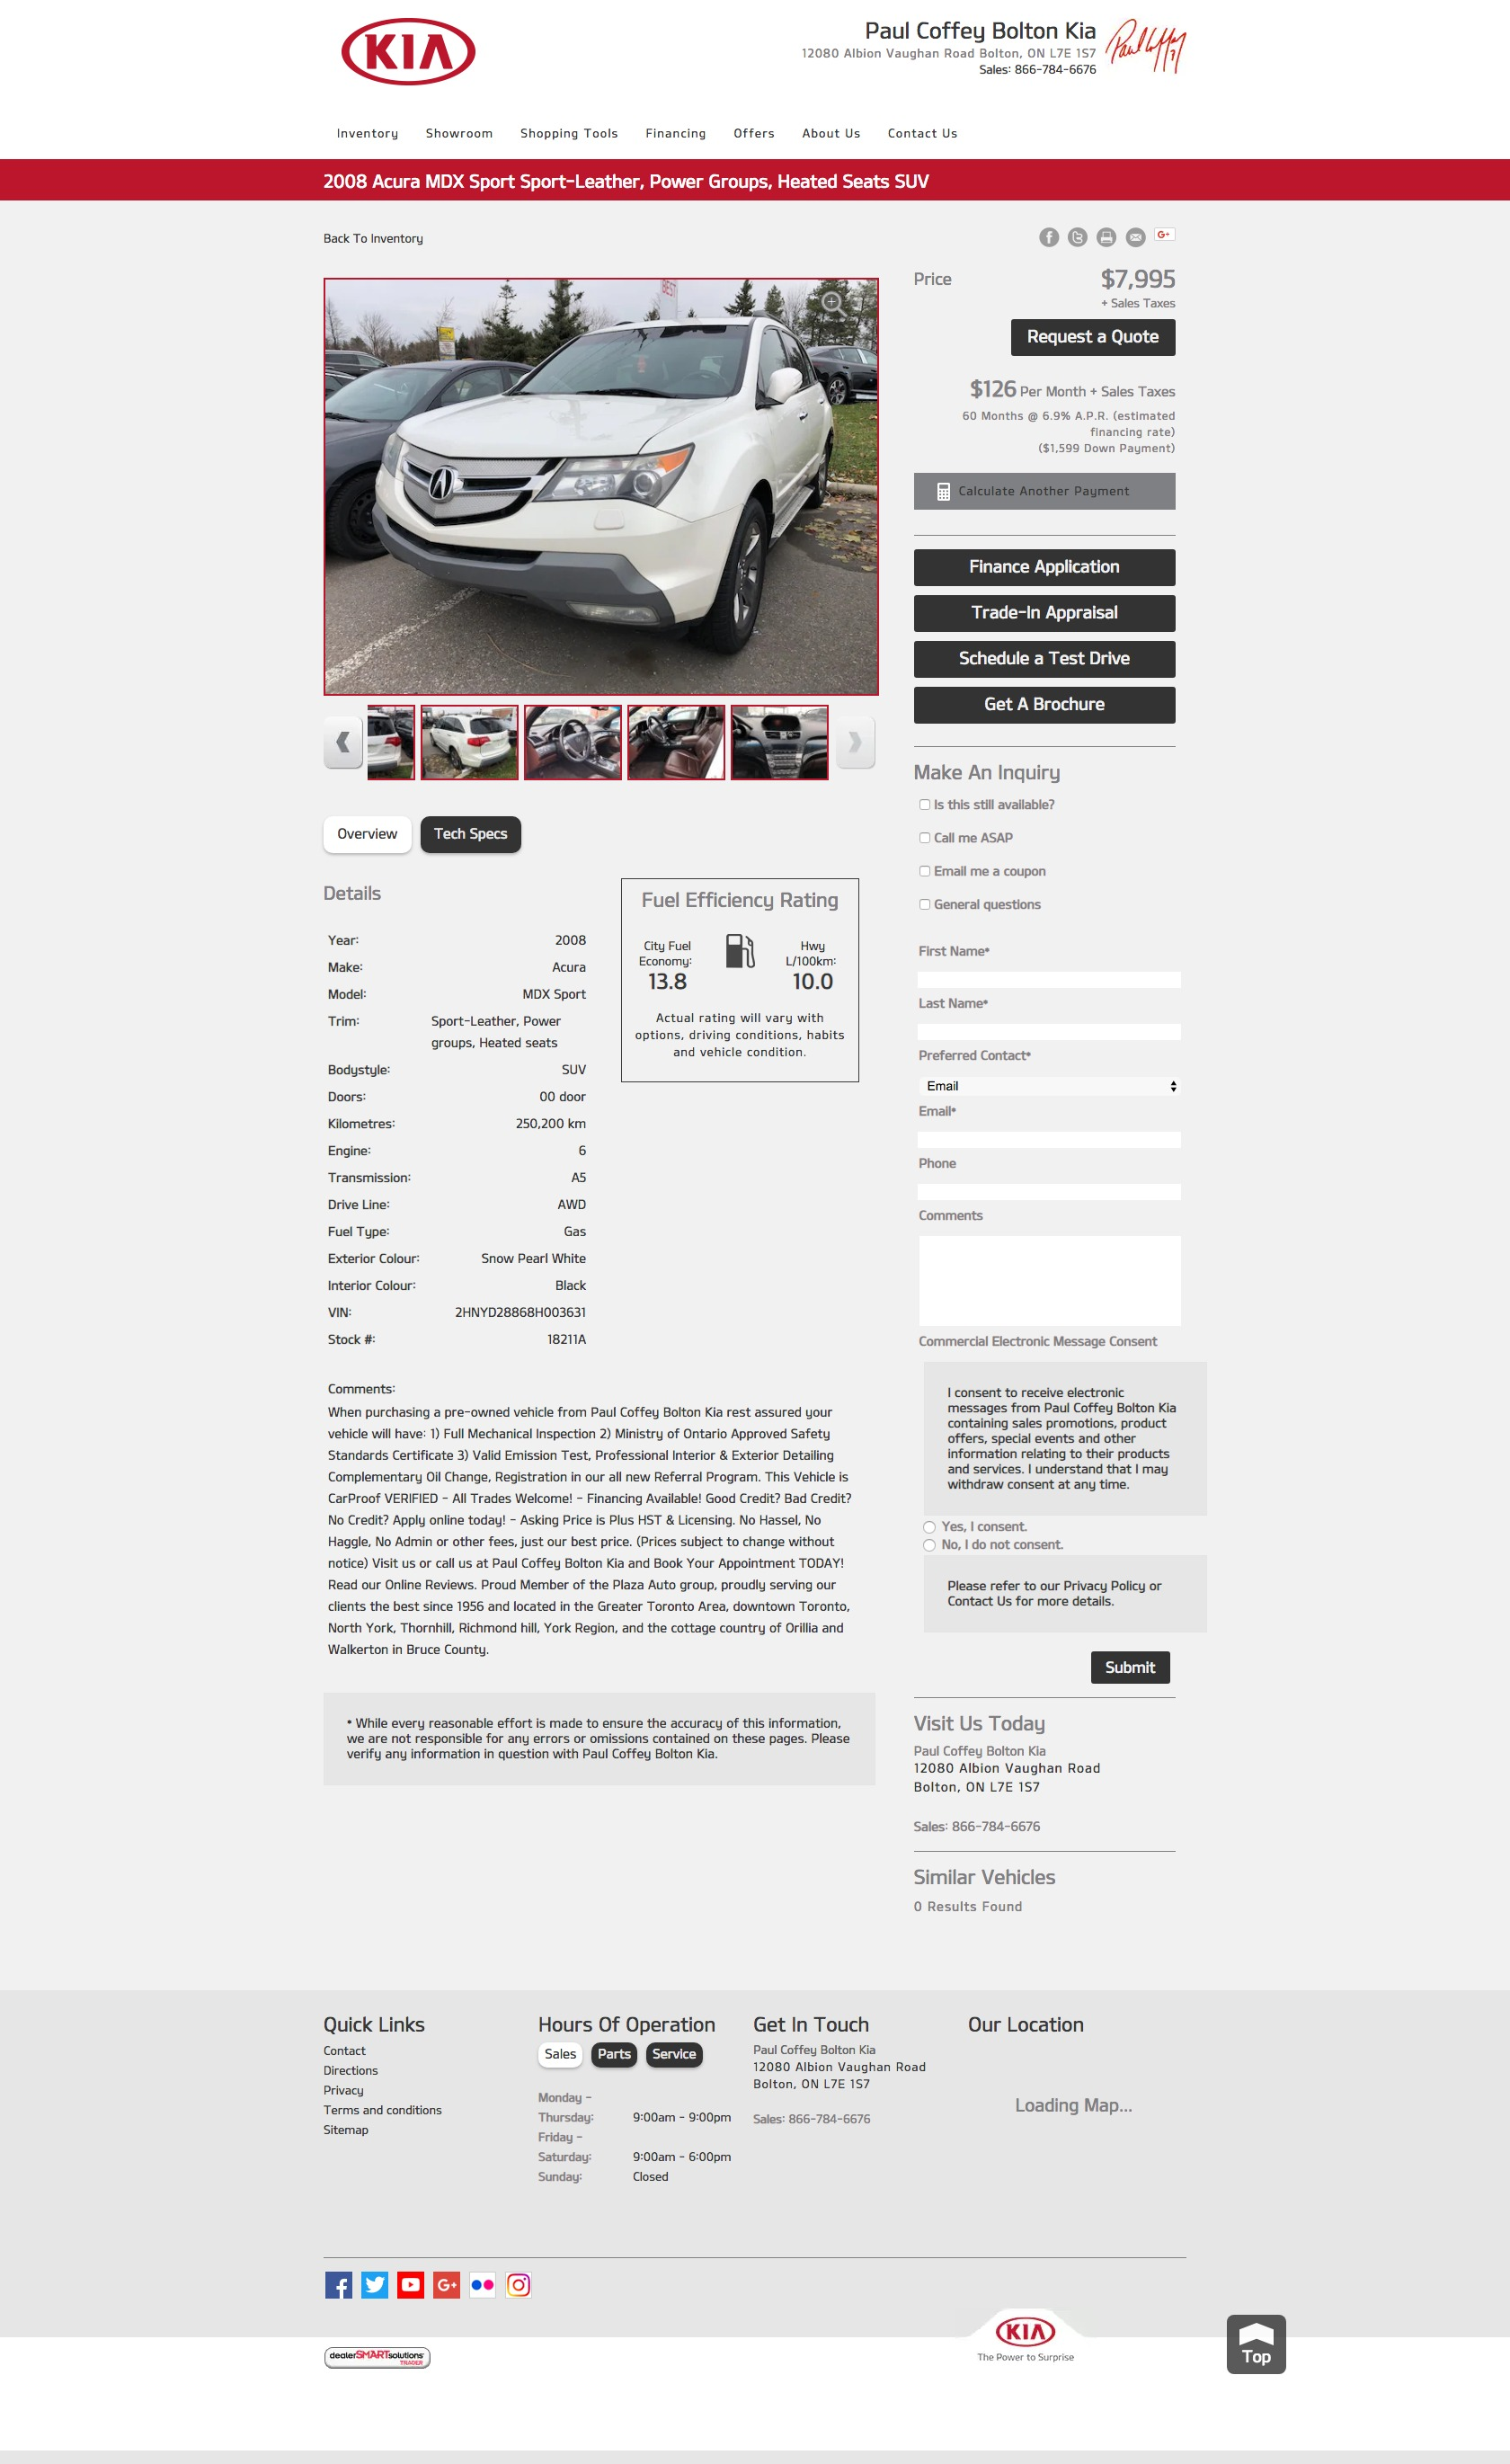car: (834, 716, 876, 771)
